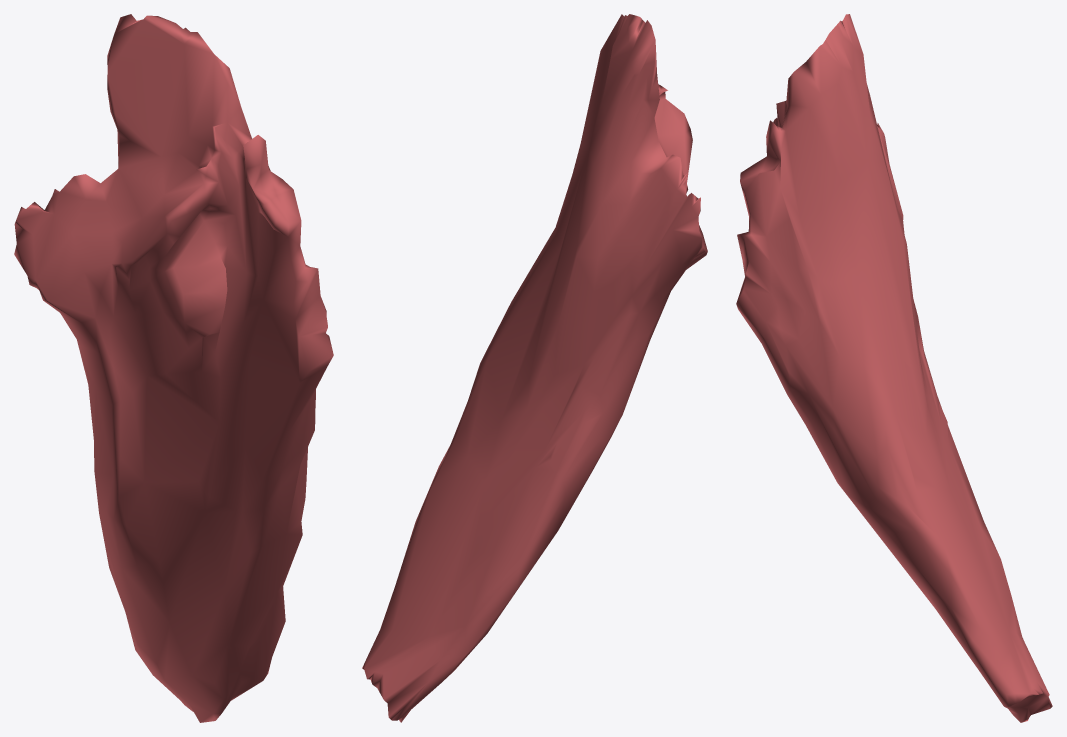
3 renders of one model, left to right at view 1: azimuth 30°, elevation 25°; view 2: azimuth 150°, elevation 25°; view 3: azimuth 270°, elevation 25°, orthographic. The views are drawn at different scales.
Parts seen in each view (by area): view 1: 右侧踇收肌斜头; view 2: 右侧踇收肌斜头; view 3: 右侧踇收肌斜头.
Boxes of the visible parts, bbox=[...] form: 右侧踇收肌斜头: bbox=[14, 14, 333, 722]; 右侧踇收肌斜头: bbox=[362, 14, 707, 722]; 右侧踇收肌斜头: bbox=[736, 14, 1052, 722].
Size of the model in its own units: 0.0413 by 0.0984 by 0.0443.
